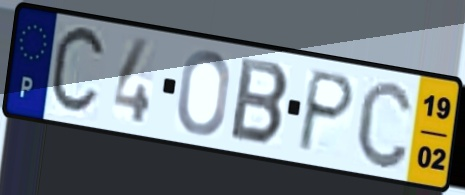4: (111, 34, 153, 129)
B: (227, 54, 293, 149)
C: (46, 22, 110, 120), (353, 77, 416, 172)
O: (175, 47, 233, 138)
P: (294, 66, 358, 156)
